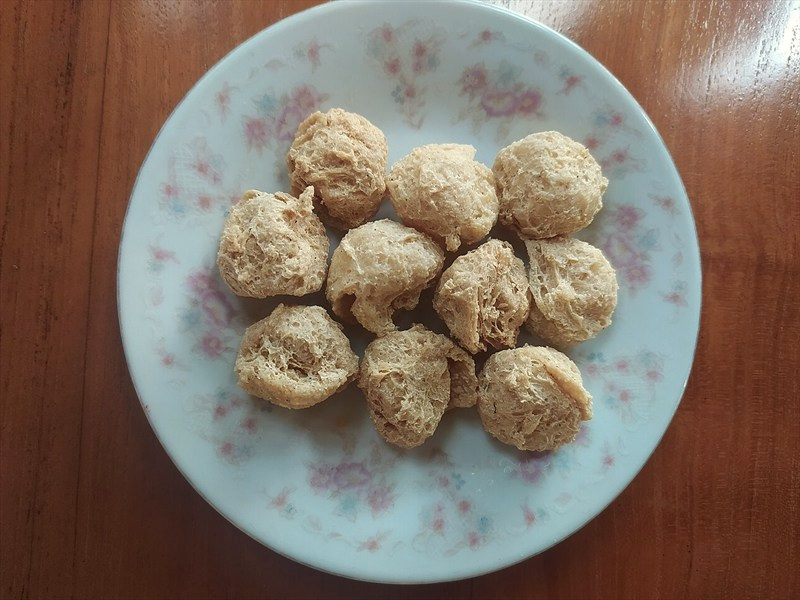Tahu Goreng: (122, 29, 718, 561)
